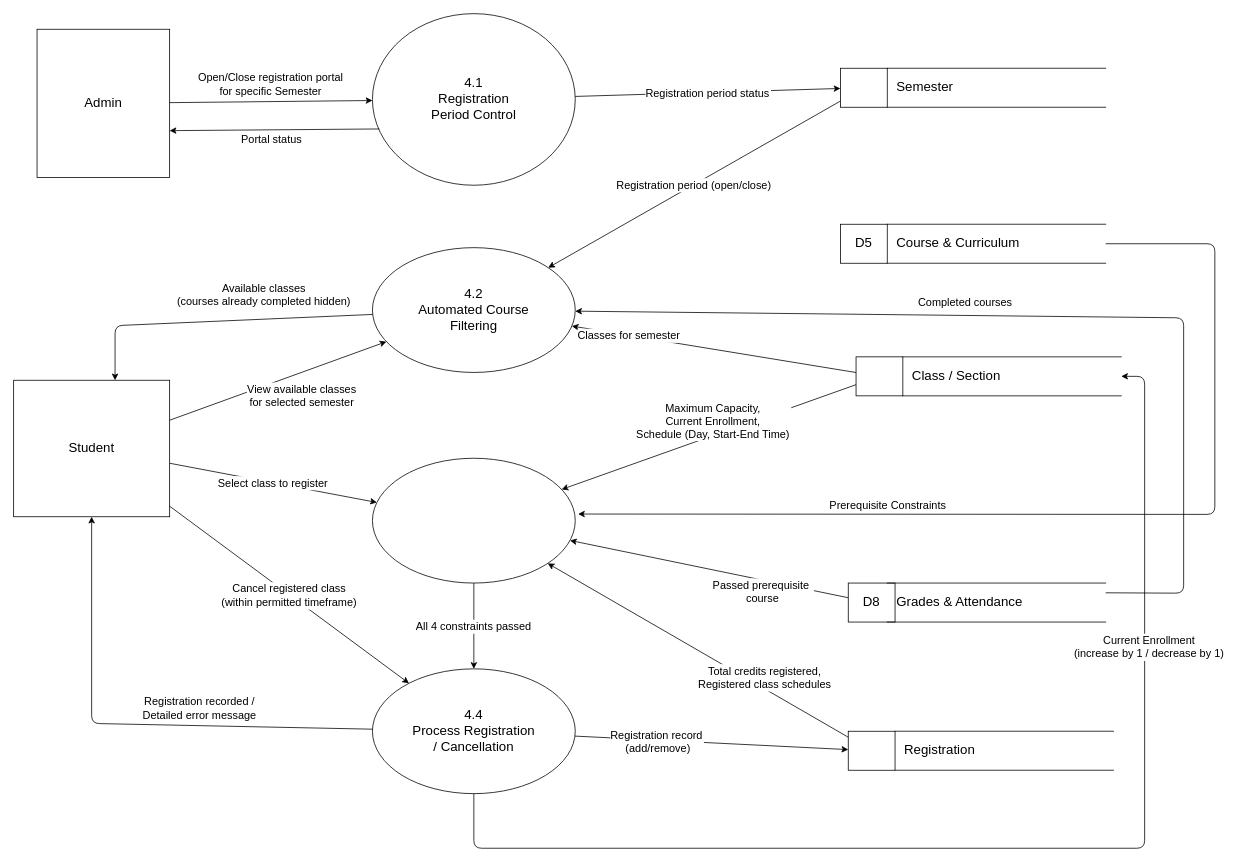
Some shapes in this 1239 by 868 pixel diagram are drawn without their labels. Each missing label, with the centre of its shape:
"4.3 Registration Eligibility Validation" belongs at [473,520].
"D4" belongs at [863,87].
"D6" belongs at [879,376].
"D7" belongs at [871,750].
